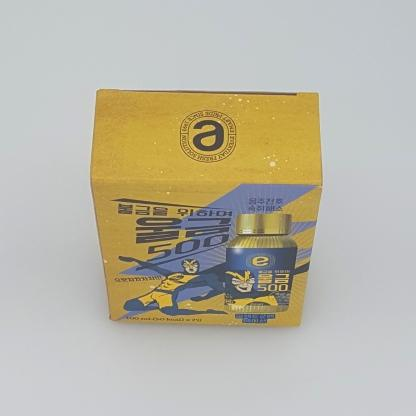----500100ML_2-200ML: (89, 89, 323, 327)
